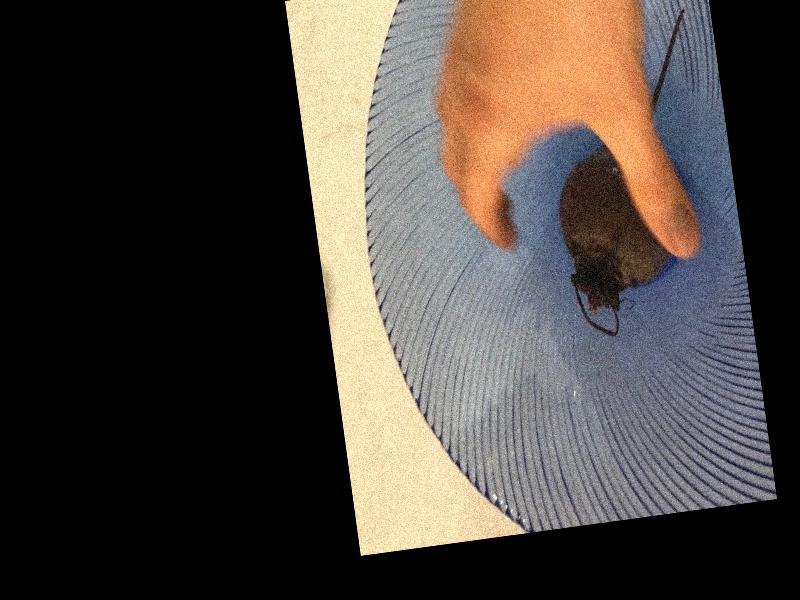Beet: (533, 9, 726, 341)
